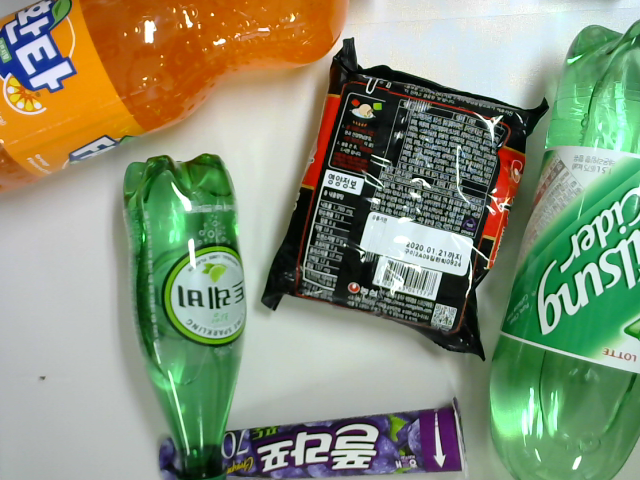Chilseong_Cider_1.5L: (484, 11, 639, 480)
Hwanta_Orange_1.5L: (1, 1, 362, 196)
Polapo_Grape: (147, 394, 473, 480)
Sinramen_Black: (252, 32, 557, 365)
Treviraim_500ml: (122, 149, 254, 480)
